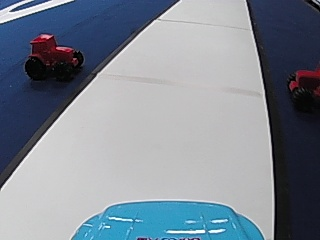tractor: (22, 31, 83, 81), (285, 65, 319, 111)
